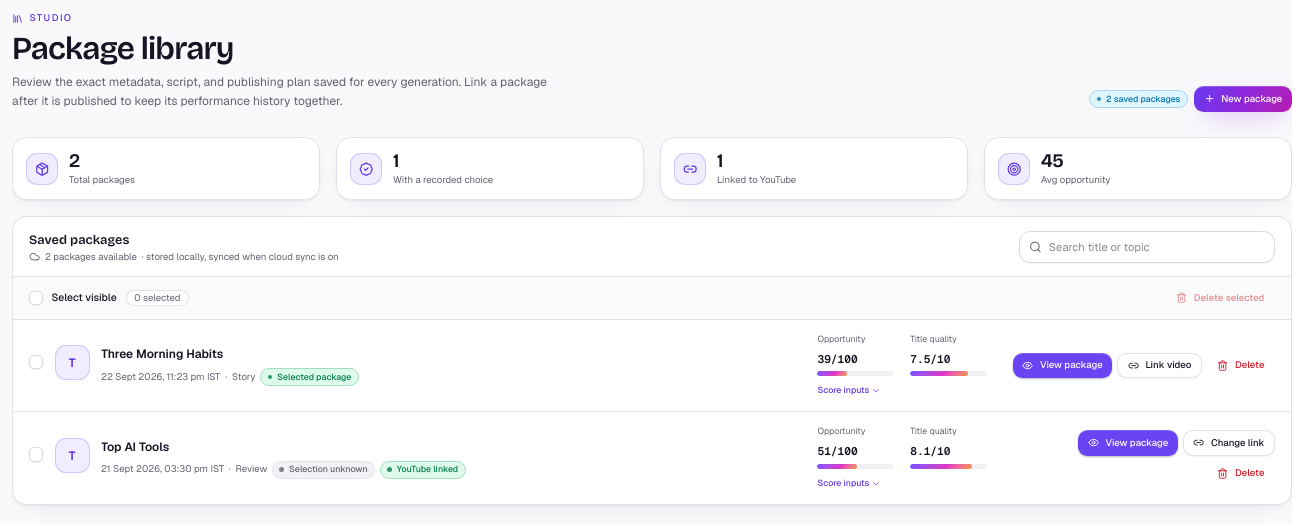
HistoryPage › shows each package's content angle and finds packages by it
Expected: the button "Three Morning Habits" is shown, [101, 345, 223, 363]
Expected: the text "Story" is shown, [232, 371, 256, 383]
Type "review" into the search field named "Search saved packages" at {"x": 1147, "y": 247}, box [1019, 231, 1275, 263]
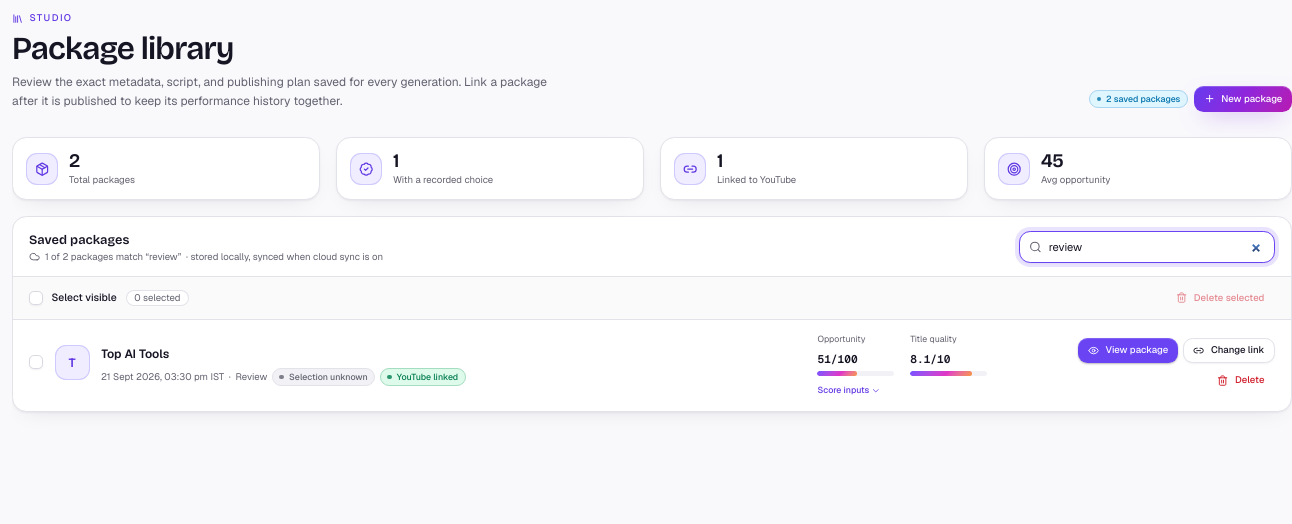
Expected: the button "Top AI Tools" is shown, [101, 345, 169, 363]
Expected: the button "Three Morning Habits" is gone
